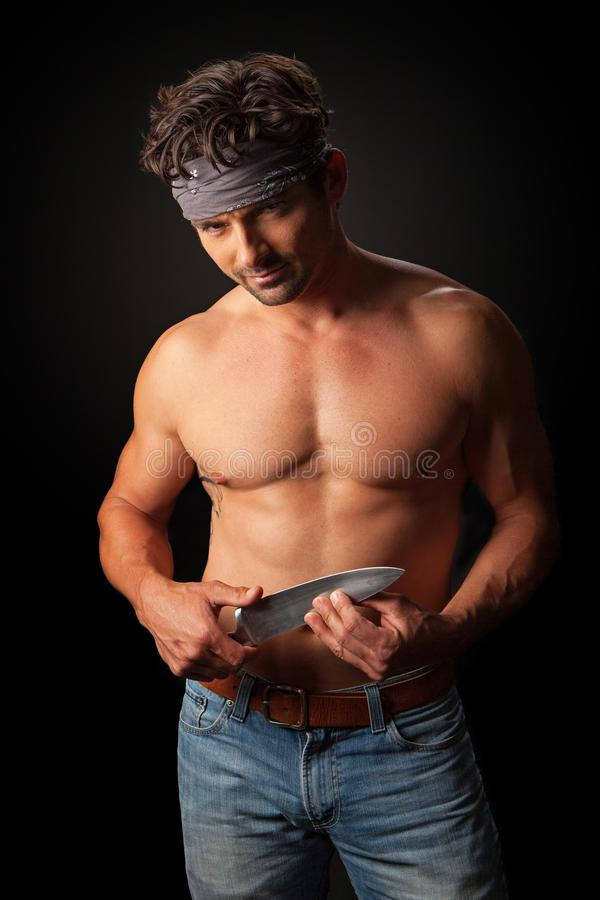criminal: (95, 52, 566, 900)
weapon: (207, 560, 408, 660)
